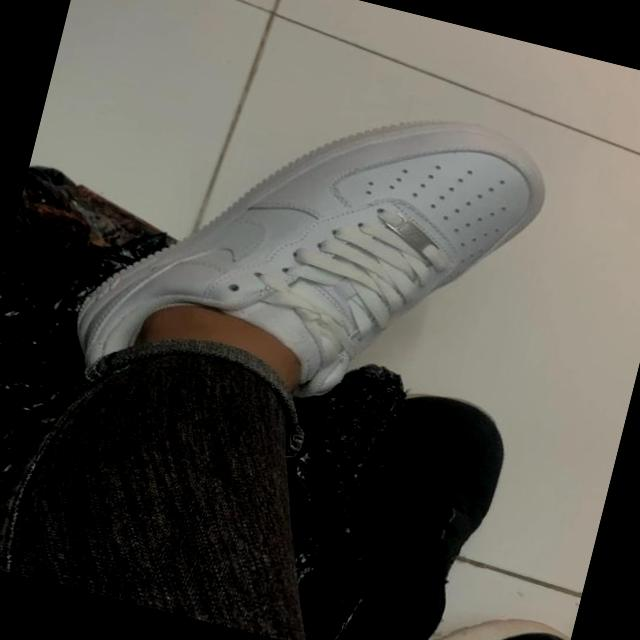nike_original_airforce: (45, 35, 562, 512)
